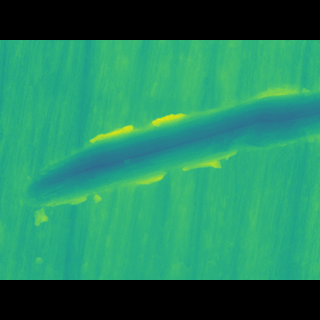Loch: (15, 101, 320, 203)
